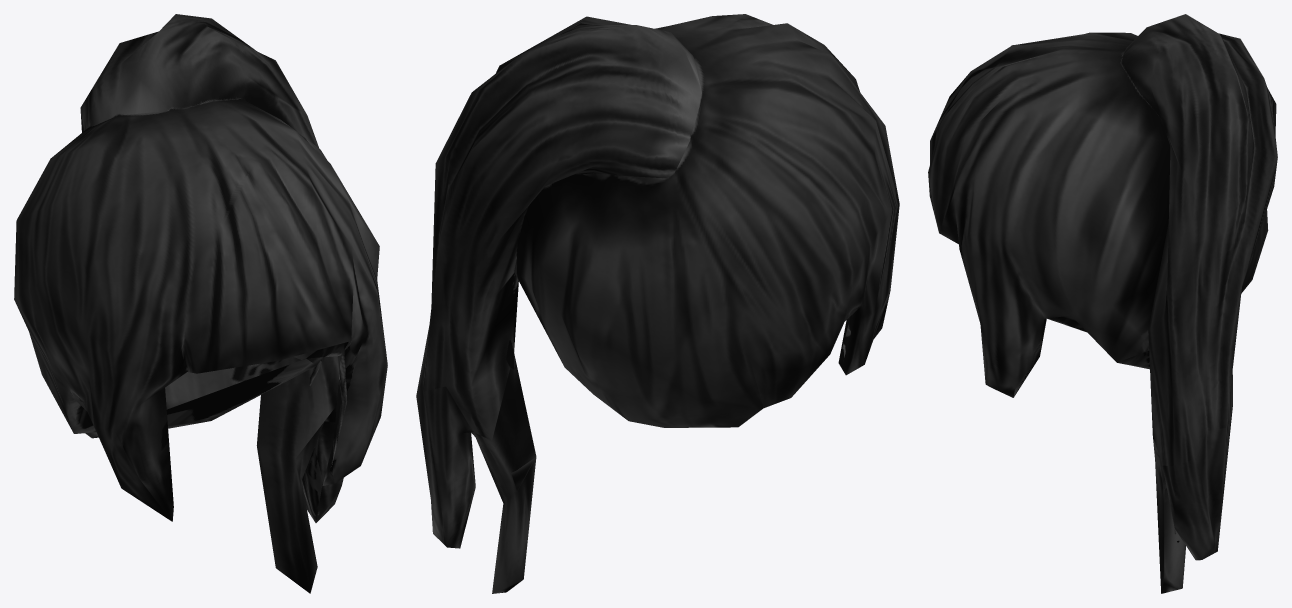
The model's file is AF_M_hair_G_09.fbx.
3 views of the same model, side by side, from view 1: azimuth 30°, elevation 25°; view 2: azimuth 150°, elevation 25°; view 3: azimuth 270°, elevation 25° (orthographic). The views are drawn at different scales.
Parts seen in each view (by area): view 1: AF_M_hair_G_09; view 2: AF_M_hair_G_09; view 3: AF_M_hair_G_09.
Boxes of the visible parts, bbox=[...] form: AF_M_hair_G_09: bbox=[14, 14, 387, 593]; AF_M_hair_G_09: bbox=[416, 14, 899, 593]; AF_M_hair_G_09: bbox=[928, 14, 1277, 593].
Size of the model in its own units: 888 by 1342 by 818.
